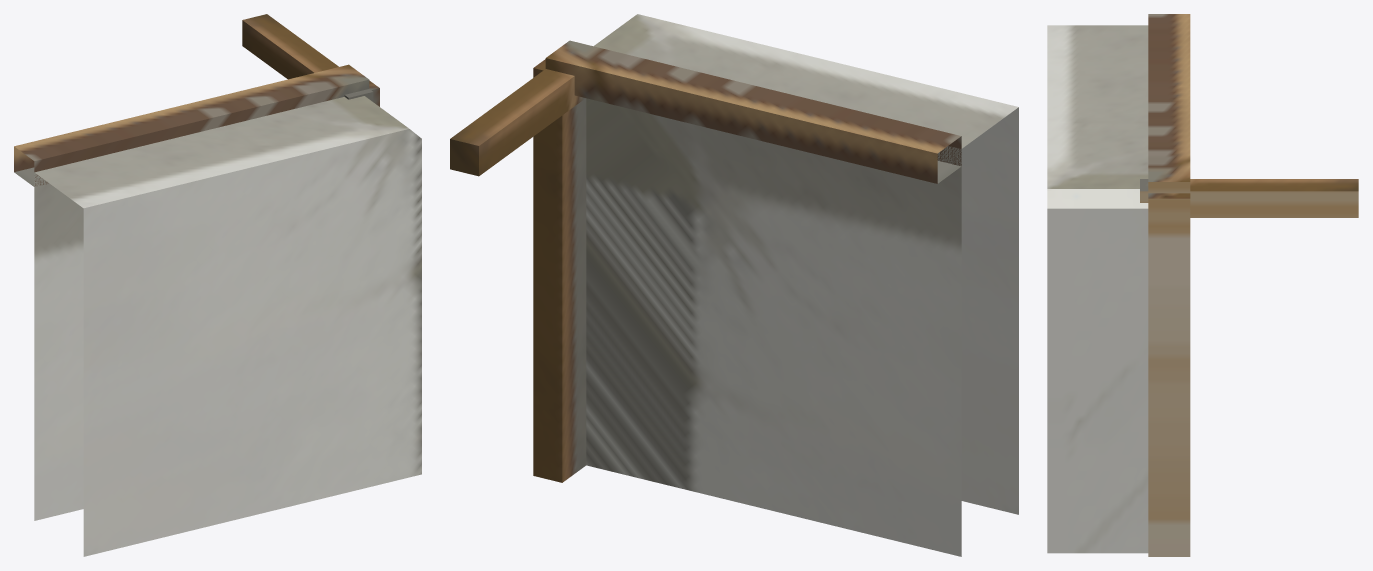
Rendered from pz_bed_bedding_01_large_oak_1_1.obj.
3 views of the same model, side by side, from view 1: azimuth 30°, elevation 25°; view 2: azimuth 150°, elevation 25°; view 3: azimuth 270°, elevation 25° (orthographic). The views are drawn at different scales.
Size of the model in its own units: 0.975 by 0.97 by 0.74.
1 material, 1 textured.
